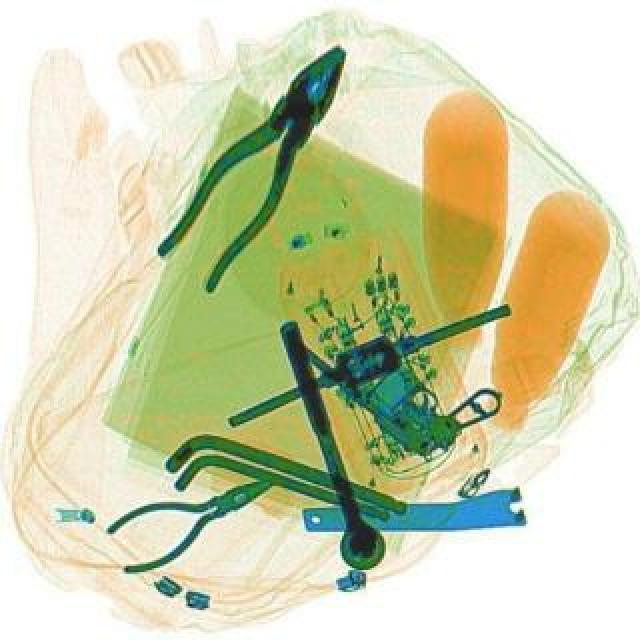gun: (274, 262, 506, 470)
wrench: (146, 26, 376, 296), (96, 454, 288, 578)
